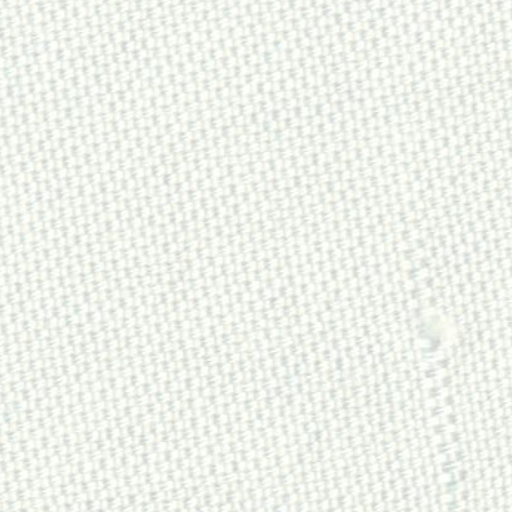PoDong: (386, 283, 482, 364)
